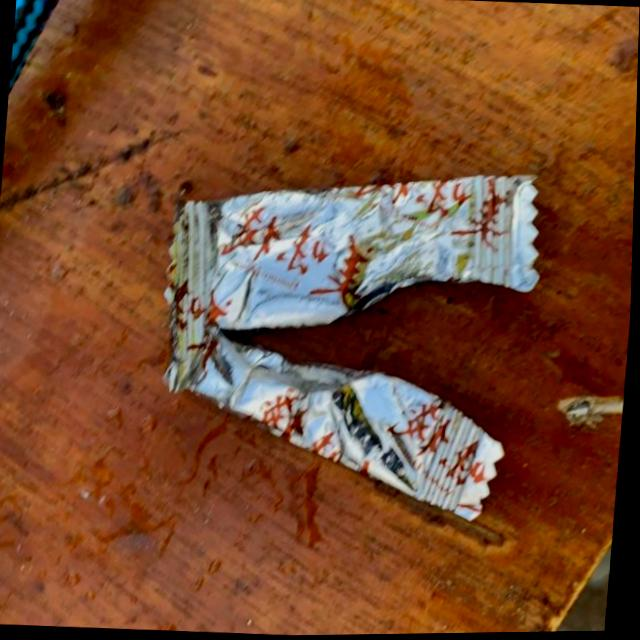Plastic: (144, 151, 554, 539)
